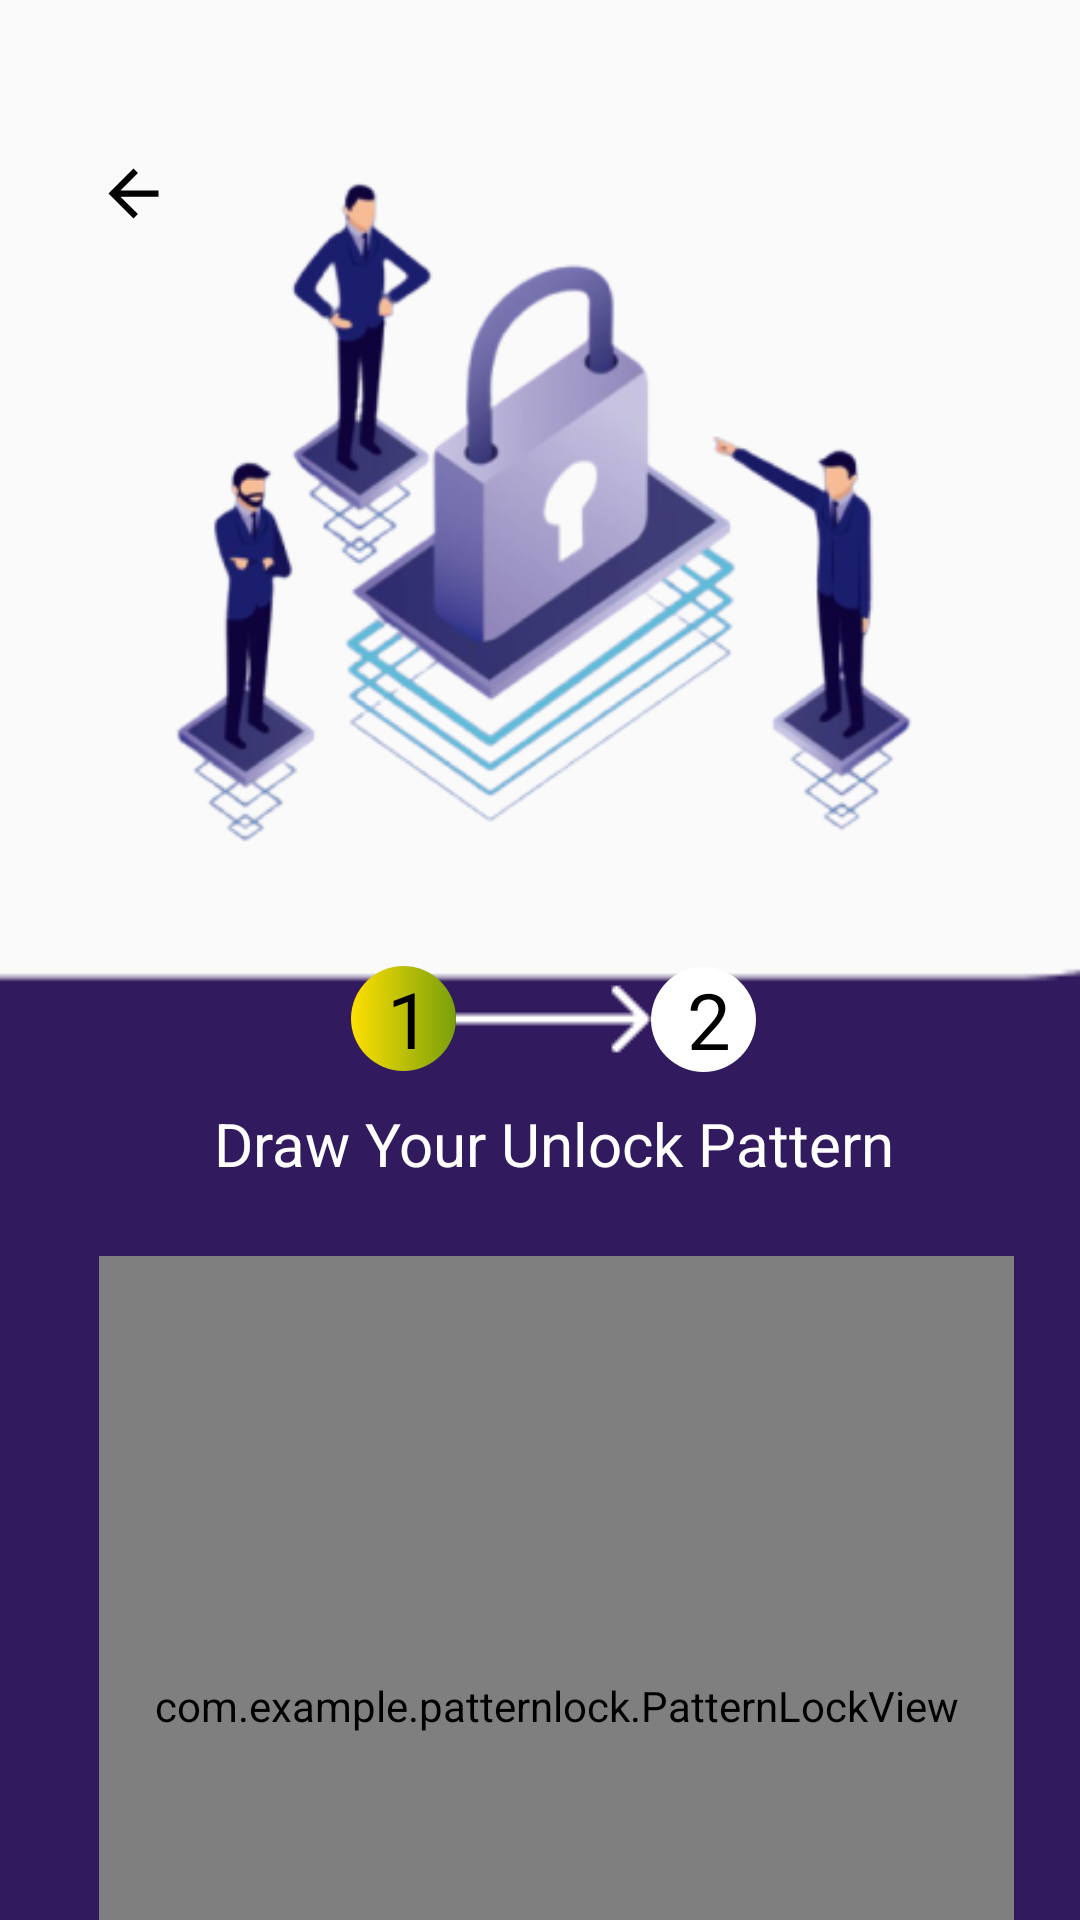

Where to tap for icons on this 1080*1920 app screen, as [x,y]:
Back Arrow: [133,193]
whitearrow: [553,1019]
